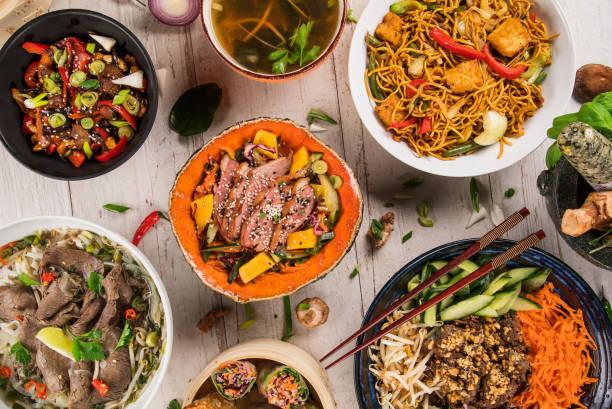Braised Crucian Carp: (352, 238, 607, 407), (347, 2, 572, 180), (166, 118, 357, 301), (1, 214, 174, 408), (0, 8, 158, 181), (199, 1, 348, 82), (181, 337, 341, 408)
